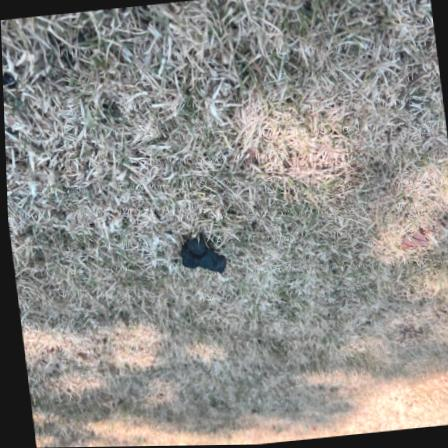dog-poop: (171, 229, 223, 276)
